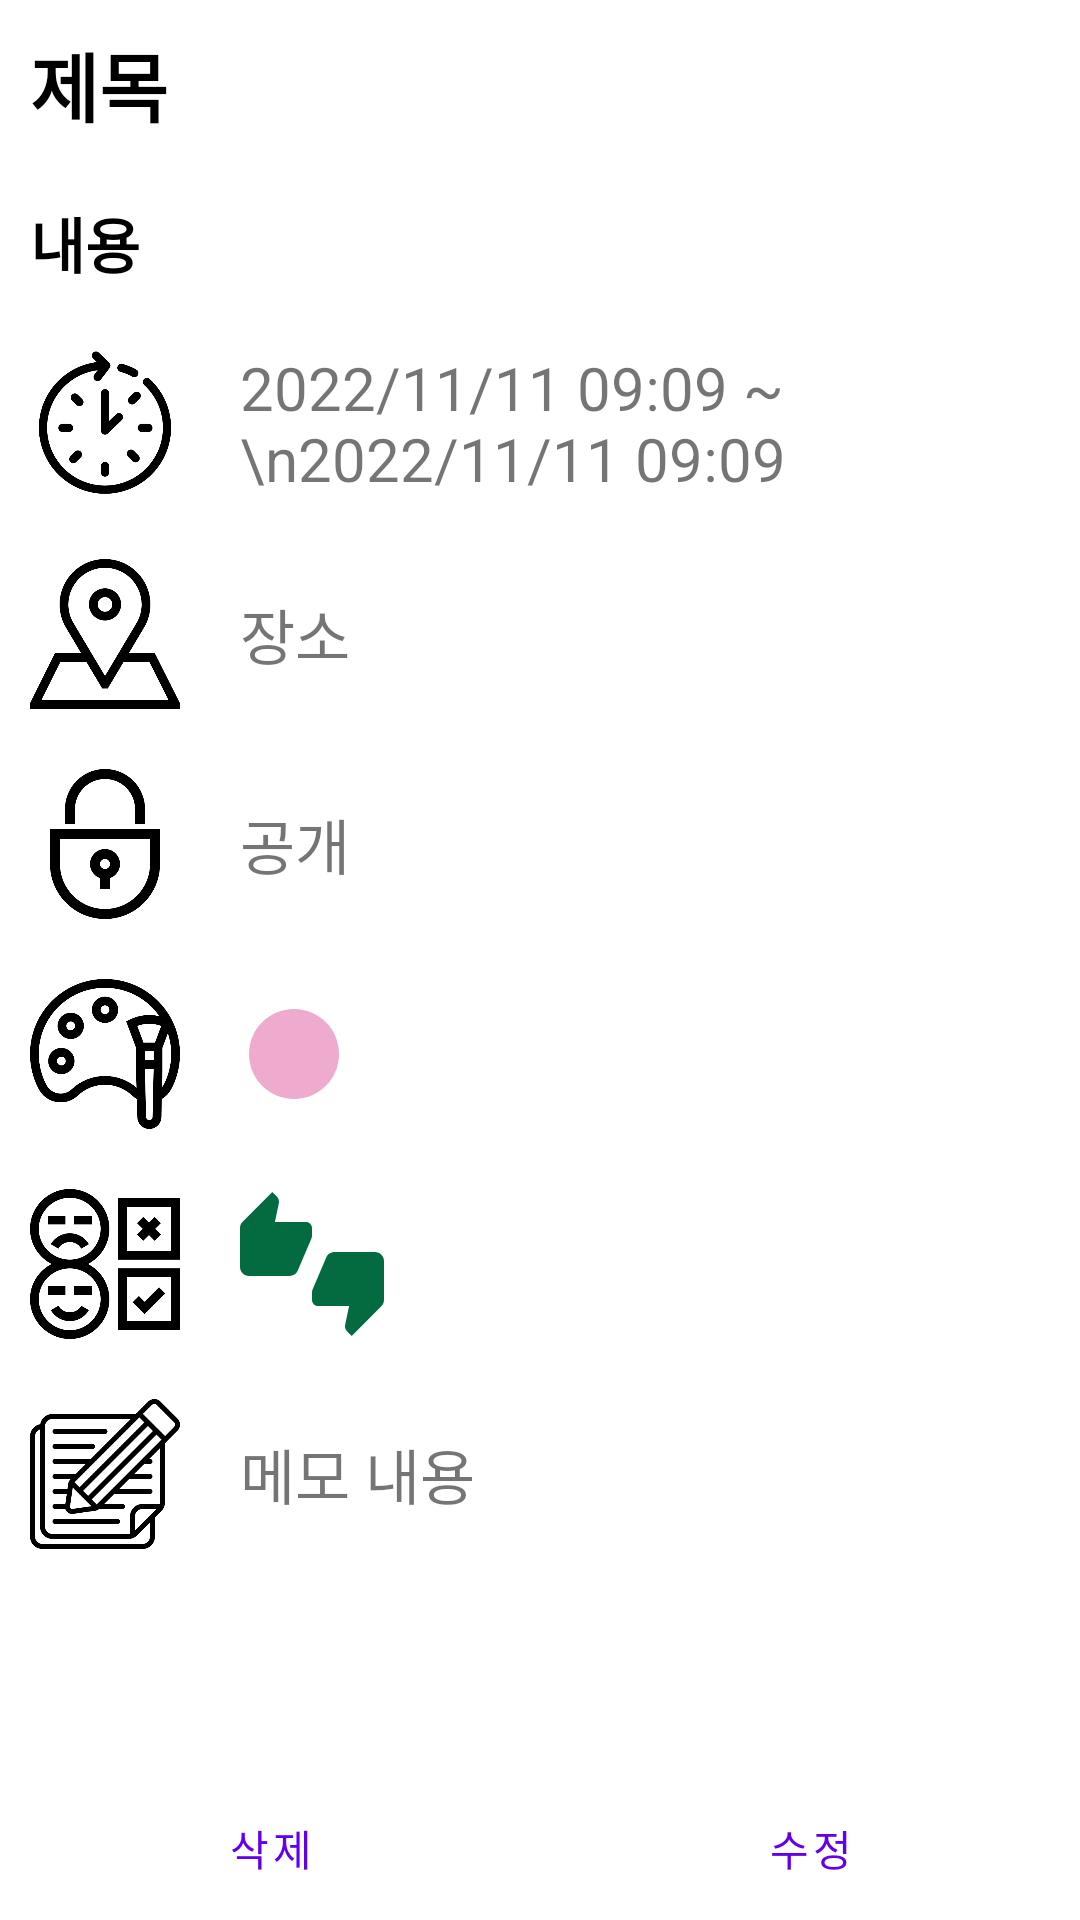

Point at icon controls on the screen. Image size 1080 x 1920, points as point (x, y).
evaluate: point (105, 1264)
lock: point (105, 844)
memo: point (105, 1474)
place: point (105, 634)
thumbs up down: point (312, 1264)
time: point (105, 422)
